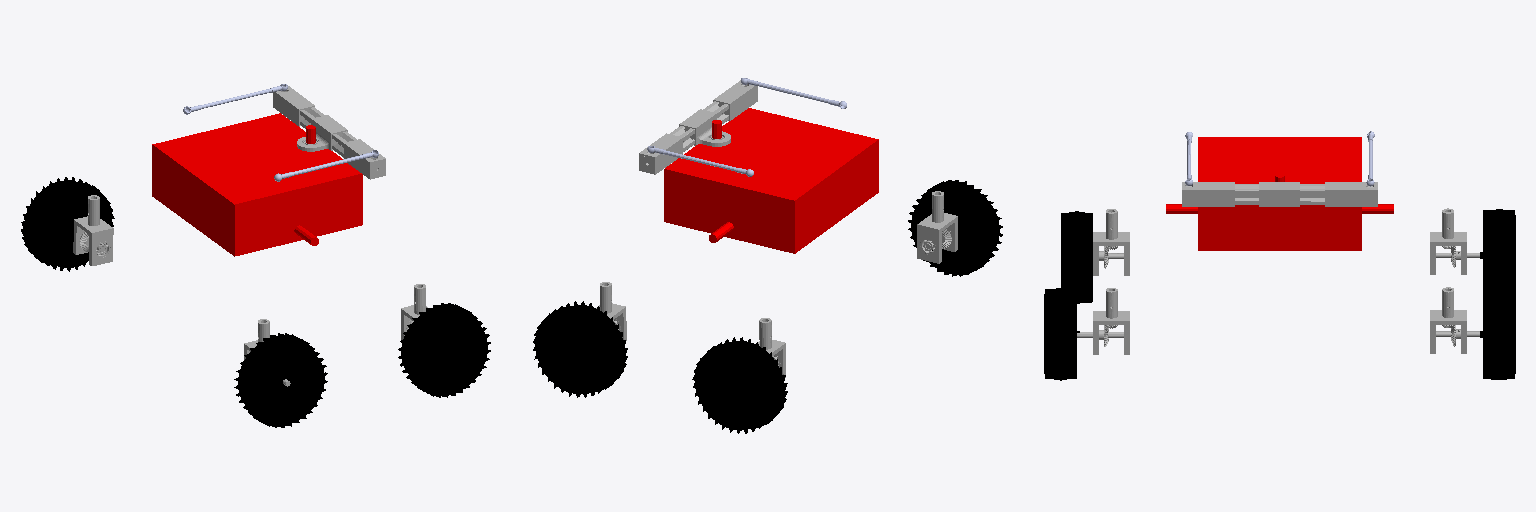
robot.urdf — rocker:
<?xml version="1.0" ?>
<!-- =================================================================================== -->
<!-- |    This document was autogenerated by xacro from rocker.urdf.xacro              | -->
<!-- |    EDITING THIS FILE BY HAND IS NOT RECOMMENDED                                 | -->
<!-- =================================================================================== -->
<!-- This URDF was automatically created by SolidWorks to URDF Exporter! Originally created by [author] ([email redacted]) 
     Commit Version: 1.6.0-4-g7f85cfe  Build Version: 1.6.7995.38578
     For more information, please see http://wiki.ros.org/sw_urdf_exporter -->
<robot name="rocker">
  <!-- Wheels friction tuning -->
  <gazebo reference="fl_wheel">
    <mu1>1.0</mu1>
    <mu2>1.0</mu2>
    <kp>1e6</kp>
    <kd>10.0</kd>
    <minDepth>0.001</minDepth>
    <maxVel>0.5</maxVel>
    <fdir1>1 0 0</fdir1>
  </gazebo>
  <gazebo reference="fr_wheel">
    <mu1>1.0</mu1>
    <mu2>1.0</mu2>
    <kp>1e6</kp>
    <kd>10.0</kd>
    <minDepth>0.001</minDepth>
    <maxVel>0.5</maxVel>
    <fdir1>1 0 0</fdir1>
  </gazebo>
  <gazebo reference="rl_wheel">
    <mu1>1.0</mu1>
    <mu2>1.0</mu2>
    <kp>1e6</kp>
    <kd>10.0</kd>
    <minDepth>0.001</minDepth>
    <maxVel>0.5</maxVel>
    <fdir1>1 0 0</fdir1>
  </gazebo>
  <gazebo reference="rr_wheel">
    <mu1>1.0</mu1>
    <mu2>1.0</mu2>
    <kp>1e6</kp>
    <kd>10.0</kd>
    <minDepth>0.001</minDepth>
    <maxVel>0.5</maxVel>
    <fdir1>1 0 0</fdir1>
  </gazebo>
  <!-- Steering friction -->
  <gazebo reference="steer_fl">
    <mu1>1.0</mu1>
    <mu2>1.0</mu2>
    <kp>100000.0</kp>
    <kd>10.0</kd>
  </gazebo>
  <gazebo reference="steer_fr">
    <mu1>1.0</mu1>
    <mu2>1.0</mu2>
    <kp>100000.0</kp>
    <kd>10.0</kd>
  </gazebo>
  <gazebo reference="steer_rl">
    <mu1>1.0</mu1>
    <mu2>1.0</mu2>
    <kp>100000.0</kp>
    <kd>10.0</kd>
  </gazebo>
  <gazebo reference="steer_rr">
    <mu1>1.0</mu1>
    <mu2>1.0</mu2>
    <kp>100000.0</kp>
    <kd>10.0</kd>
  </gazebo>
  <!-- Global plugins (for Ignition) -->
  <gazebo>
    <plugin filename="ign_ros2_control-system" name="ign_ros2_control::IgnitionROS2ControlPlugin">
      <parameters>[local-path]/rocker_ws/install/rocker_controller/share/rocker_controller/config/rocker_controllers.yaml</parameters>
    </plugin>
    <plugin filename="ignition-gazebo-imu-system" name="ignition::gazebo::systems::Imu"/>
    <plugin filename="ignition-gazebo-sensors-system" name="ignition::gazebo::systems::Sensors"/>
  </gazebo>
  <link name="base_link">
    <inertial>
      <origin rpy="0 0 0" xyz="0.0036425 -1.0237E-05 0.029007"/>
      <mass value="3.2505"/>
      <inertia ixx="0.012194" ixy="-1.2887E-11" ixz="-1.2673E-05" iyy="0.0094514" iyz="2.0372E-12" izz="0.019133"/>
    </inertial>
    <visual>
      <origin rpy="0 0 0" xyz="0 0 0"/>
      <geometry>
        <mesh filename="package://rocker_description/meshes/base_link.STL"/>
      </geometry>
      <material name="">
        <color rgba="1 0 0 1"/>
      </material>
    </visual>
    <collision>
      <origin rpy="0 0 0" xyz="0 0 0"/>
      <geometry>
        <mesh filename="package://rocker_description/meshes/base_link.STL"/>
      </geometry>
    </collision>
  </link>
  <link name="rocker_left">
    <inertial>
      <origin rpy="0 0 0" xyz="-0.00596279660858899 0.019311656764223 0.00821775119149987"/>
      <mass value="0.548279465838668"/>
      <inertia ixx="0.000160712183052689" ixy="-1.18295174930768E-05" ixz="4.65341223670499E-08" iyy="0.00145712336712729" iyz="2.38546500296045E-06" izz="0.00150112676272773"/>
    </inertial>
    <visual>
      <origin rpy="0 0 0" xyz="0 0 0"/>
      <geometry>
        <mesh filename="package://rocker_description/meshes/rocker_left.STL"/>
      </geometry>
      <material name="">
        <color rgba="0.752941176470588 0.752941176470588 0.752941176470588 1"/>
      </material>
    </visual>
    <collision>
      <origin rpy="0 0 0" xyz="0 0 0"/>
      <geometry>
        <mesh filename="package://rocker_description/meshes/rocker_left.STL"/>
      </geometry>
    </collision>
  </link>
  <joint name="rocker_left_joint" type="revolute">
    <origin rpy="-1.5707963267949 0 0" xyz="-0.00300007366280326 0.139989762643875 0.00599815142431871"/>
    <parent link="base_link"/>
    <child link="rocker_left"/>
    <axis xyz="0 0 -1"/>
    <limit effort="10" lower="-0.785" upper="0.785" velocity="20"/>
  </joint>
  <link name="steer_fl">
    <inertial>
      <origin rpy="0 0 0" xyz="0.000519302762488599 0.00116147480983056 -0.0722490116852784"/>
      <mass value="0.0538768863875911"/>
      <inertia ixx="1.72835692168003E-05" ixy="1.86520451951073E-10" ixz="1.22945601642171E-09" iyy="1.26504996734862E-05" iyz="1.03486603556425E-12" izz="1.01151748087639E-05"/>
    </inertial>
    <visual>
      <origin rpy="0 0 0" xyz="0 0 0"/>
      <geometry>
        <mesh filename="package://rocker_description/meshes/steer_fl.STL"/>
      </geometry>
      <material name="">
        <color rgba="0.752941176470588 0.752941176470588 0.752941176470588 1"/>
      </material>
    </visual>
    <collision>
      <origin rpy="0 0 0" xyz="0 0 0"/>
      <geometry>
        <mesh filename="package://rocker_description/meshes/steer_fl.STL"/>
      </geometry>
    </collision>
  </link>
  <joint name="steer_fl_joint" type="revolute">
    <origin rpy="1.5707963267949 0 0" xyz="0.109493624388031 0.03794110103799 0.0465656792826112"/>
    <parent link="rocker_left"/>
    <child link="steer_fl"/>
    <axis xyz="0 0 -1"/>
    <limit effort="10" lower="-3.14" upper="3.14" velocity="20"/>
  </joint>
  <link name="fl_wheel">
    <inertial>
      <origin rpy="0 0 0" xyz="0.002099 -0.0019395 -0.028409"/>
      <mass value="0.13017"/>
      <inertia ixx="0.00012478" ixy="-7.5675E-12" ixz="-1.0928E-11" iyy="0.00012478" iyz="-2.364E-12" izz="0.00023467"/>
    </inertial>
    <visual>
      <origin rpy="0 0 0" xyz="0 0 0"/>
      <geometry>
        <mesh filename="package://rocker_description/meshes/fl_wheel.STL"/>
      </geometry>
      <material name="">
        <color rgba="0 0 0 1"/>
      </material>
    </visual>
    <collision>
      <origin rpy="0 0 0" xyz="0 0 0"/>
      <geometry>
        <mesh filename="package://rocker_description/meshes/fl_wheel.STL"/>
      </geometry>
    </collision>
  </link>
  <joint name="fl_wheel_joint" type="continuous">
    <origin rpy="-1.5707963267949 0 0" xyz="-0.0015781170593388 0.0908967088232542 -0.0809547532967621"/>
    <parent link="steer_fl"/>
    <child link="fl_wheel"/>
    <axis xyz="0 0 -1"/>
    <limit effort="10" lower="-10" upper="10" velocity="100"/>
  </joint>
  <link name="steer_rl">
    <inertial>
      <origin rpy="0 0 0" xyz="0.000484941628677482 0.00116147483099063 -0.0761644404434853"/>
      <mass value="0.053876886763219"/>
      <inertia ixx="1.72835692136404E-05" ixy="1.8652062791263E-10" ixz="1.22944997559593E-09" iyy="1.26504996782381E-05" iyz="1.04212079064367E-12" izz="1.01151748208476E-05"/>
    </inertial>
    <visual>
      <origin rpy="0 0 0" xyz="0 0 0"/>
      <geometry>
        <mesh filename="package://rocker_description/meshes/steer_rl.STL"/>
      </geometry>
      <material name="">
        <color rgba="0.752941176470588 0.752941176470588 0.752941176470588 1"/>
      </material>
    </visual>
    <collision>
      <origin rpy="0 0 0" xyz="0 0 0"/>
      <geometry>
        <mesh filename="package://rocker_description/meshes/steer_rl.STL"/>
      </geometry>
    </collision>
  </link>
  <joint name="steer_rl_joint" type="revolute">
    <origin rpy="1.5707963267949 0 0" xyz="-0.110472012747799 0.0340528521482858 0.0465656792826093"/>
    <parent link="rocker_left"/>
    <child link="steer_rl"/>
    <axis xyz="0 0 -1"/>
    <limit effort="10" lower="-3.14" upper="3.14" velocity="20"/>
  </joint>
  <link name="rl_wheel">
    <inertial>
      <origin rpy="0 0 0" xyz="0.0020646 0.001976 -0.028409"/>
      <mass value="0.13017"/>
      <inertia ixx="0.00012478" ixy="3.8397E-11" ixz="1.7184E-12" iyy="0.00012478" iyz="1.1048E-11" izz="0.00023467"/>
    </inertial>
    <visual>
      <origin rpy="0 0 0" xyz="0 0 0"/>
      <geometry>
        <mesh filename="package://rocker_description/meshes/rl_wheel.STL"/>
      </geometry>
      <material name="">
        <color rgba="0 0 0 1"/>
      </material>
    </visual>
    <collision>
      <origin rpy="0 0 0" xyz="0 0 0"/>
      <geometry>
        <mesh filename="package://rocker_description/meshes/rl_wheel.STL"/>
      </geometry>
    </collision>
  </link>
  <joint name="rl_wheel_joint" type="continuous">
    <origin rpy="-1.5707963267949 0 0" xyz="-0.00157811705934295 0.0908967088232554 -0.0809547532967675"/>
    <parent link="steer_rl"/>
    <child link="rl_wheel"/>
    <axis xyz="0 0 -1"/>
    <limit effort="10" lower="-10" upper="10" velocity="100"/>
  </joint>
  <link name="rocker_right">
    <inertial>
      <origin rpy="0 0 0" xyz="-0.00596288564139164 -0.0193116567738485 0.00817977279760604"/>
      <mass value="0.54827946587469"/>
      <inertia ixx="0.000160712214952262" ixy="1.17004377021412E-05" ixz="-4.595305488417E-08" iyy="0.00145712333524181" iyz="-2.31782014461646E-06" izz="0.00150112676273801"/>
    </inertial>
    <visual>
      <origin rpy="0 0 0" xyz="0 0 0"/>
      <geometry>
        <mesh filename="package://rocker_description/meshes/rocker_right.STL"/>
      </geometry>
      <material name="">
        <color rgba="0.752941176470588 0.752941176470588 0.752941176470588 1"/>
      </material>
    </visual>
    <collision>
      <origin rpy="0 0 0" xyz="0 0 0"/>
      <geometry>
        <mesh filename="package://rocker_description/meshes/rocker_right.STL"/>
      </geometry>
    </collision>
  </link>
  <joint name="rocker_right_joint" type="revolute">
    <origin rpy="1.5707963267949 0 0" xyz="-0.00300007366280228 -0.140010237356125 0.00599815142431871"/>
    <parent link="base_link"/>
    <child link="rocker_right"/>
    <axis xyz="0 0 -1"/>
    <limit effort="10" lower="-0.785" upper="0.785" velocity="20"/>
  </joint>
  <link name="steer_fr">
    <inertial>
      <origin rpy="0 0 0" xyz="0.000814806507593191 -0.00116147489072244 -0.0722542107353949"/>
      <mass value="0.0538768872737433"/>
      <inertia ixx="1.7283569426659E-05" ixy="1.86515428145444E-10" ixz="5.41775108617785E-10" iyy="1.26504997390041E-05" iyz="-9.97068339061866E-13" izz="1.01151746673558E-05"/>
    </inertial>
    <visual>
      <origin rpy="0 0 0" xyz="0 0 0"/>
      <geometry>
        <mesh filename="package://rocker_description/meshes/steer_fr.STL"/>
      </geometry>
      <material name="">
        <color rgba="0.752941176470588 0.752941176470588 0.752941176470588 1"/>
      </material>
    </visual>
    <collision>
      <origin rpy="0 0 0" xyz="0 0 0"/>
      <geometry>
        <mesh filename="package://rocker_description/meshes/steer_fr.STL"/>
      </geometry>
    </collision>
  </link>
  <joint name="steer_fr_joint" type="revolute">
    <origin rpy="-1.5707963267949 0 0" xyz="0.109199494929351 -0.0379359018234412 0.0464809030708809"/>
    <parent link="rocker_right"/>
    <child link="steer_fr"/>
    <axis xyz="0 0 -1"/>
    <limit effort="10" lower="-3.14" upper="3.14" velocity="20"/>
  </joint>
  <link name="fr_wheel">
    <inertial>
      <origin rpy="0 0 0" xyz="0.002099 -0.0019395 0.028409"/>
      <mass value="0.13017"/>
      <inertia ixx="0.00012478" ixy="-4.1966E-11" ixz="2.4004E-12" iyy="0.00012478" iyz="-1.092E-11" izz="0.00023467"/>
    </inertial>
    <visual>
      <origin rpy="0 0 0" xyz="0 0 0"/>
      <geometry>
        <mesh filename="package://rocker_description/meshes/fr_wheel.STL"/>
      </geometry>
      <material name="">
        <color rgba="0 0 0 1"/>
      </material>
    </visual>
    <collision>
      <origin rpy="0 0 0" xyz="0 0 0"/>
      <geometry>
        <mesh filename="package://rocker_description/meshes/fr_wheel.STL"/>
      </geometry>
    </collision>
  </link>
  <joint name="fr_wheel_joint" type="continuous">
    <origin rpy="-1.5707963267949 0 0" xyz="-0.00128398760065623 -0.0908967088232549 -0.0809599525113137"/>
    <parent link="steer_fr"/>
    <child link="fr_wheel"/>
    <axis xyz="0 0 -1"/>
    <limit effort="10" lower="-10" upper="10" velocity="100"/>
  </joint>
  <link name="steer_rr">
    <inertial>
      <origin rpy="0 0 0" xyz="0.000780445270329057 -0.00116147487171195 -0.0761696395712882"/>
      <mass value="0.0538768871625175"/>
      <inertia ixx="1.72835694318758E-05" ixy="1.86519124149826E-10" ixz="5.41758961396237E-10" iyy="1.26504997202066E-05" iyz="-9.97542075043563E-13" izz="1.01151746450203E-05"/>
    </inertial>
    <visual>
      <origin rpy="0 0 0" xyz="0 0 0"/>
      <geometry>
        <mesh filename="package://rocker_description/meshes/steer_rr.STL"/>
      </geometry>
      <material name="">
        <color rgba="0.752941176470588 0.752941176470588 0.752941176470588 1"/>
      </material>
    </visual>
    <collision>
      <origin rpy="0 0 0" xyz="0 0 0"/>
      <geometry>
        <mesh filename="package://rocker_description/meshes/steer_rr.STL"/>
      </geometry>
    </collision>
  </link>
  <joint name="steer_rr_joint" type="revolute">
    <origin rpy="-1.5707963267949 0 0" xyz="-0.11076614220648 -0.0340476529337355 0.0464809030708823"/>
    <parent link="rocker_right"/>
    <child link="steer_rr"/>
    <axis xyz="0 0 -1"/>
    <limit effort="10" lower="-3.14" upper="3.14" velocity="20"/>
  </joint>
  <link name="rr_wheel">
    <inertial>
      <origin rpy="0 0 0" xyz="-1.3569E-08 -1.2666E-08 0.0084087"/>
      <mass value="0.13017"/>
      <inertia ixx="0.00012478" ixy="3.6109E-11" ixz="-1.1101E-11" iyy="0.00012478" iyz="-1.3289E-12" izz="0.00023467"/>
    </inertial>
    <visual>
      <origin rpy="0 0 0" xyz="0 0 0"/>
      <geometry>
        <mesh filename="package://rocker_description/meshes/rr_wheel.STL"/>
      </geometry>
      <material name="">
        <color rgba="0 0 0 1"/>
      </material>
    </visual>
    <collision>
      <origin rpy="0 0 0" xyz="0 0 0"/>
      <geometry>
        <mesh filename="package://rocker_description/meshes/rr_wheel.STL"/>
      </geometry>
    </collision>
  </link>
  <joint name="rr_wheel_joint" type="continuous">
    <origin rpy="-1.5707963267949 0 0" xyz="0.000780594104818705 -0.0708967088232536 -0.0829359361237778"/>
    <parent link="steer_rr"/>
    <child link="rr_wheel"/>
    <axis xyz="0 0 -1"/>
    <limit effort="10" lower="-10" upper="10" velocity="100"/>
  </joint>
  <link name="diff_link">
    <inertial>
      <origin rpy="0 0 0" xyz="0.0236047033494913 3.3860603747965E-07 0.00680399175128785"/>
      <mass value="0.218473302594945"/>
      <inertia ixx="0.000709218973632844" ixy="-4.54890286672036E-11" ixz="-5.80923681517665E-07" iyy="2.67923062738046E-05" iyz="-9.28200200488253E-10" izz="0.000717476916902687"/>
    </inertial>
    <visual>
      <origin rpy="0 0 0" xyz="0 0 0"/>
      <geometry>
        <mesh filename="package://rocker_description/meshes/diff_link.STL"/>
      </geometry>
      <material name="">
        <color rgba="0.752941176470588 0.752941176470588 0.752941176470588 1"/>
      </material>
    </visual>
    <collision>
      <origin rpy="0 0 0" xyz="0 0 0"/>
      <geometry>
        <mesh filename="package://rocker_description/meshes/diff_link.STL"/>
      </geometry>
    </collision>
  </link>
  <joint name="diff_link_joint" type="revolute">
    <origin rpy="0 0 0" xyz="0.0719999263371985 -1.02373561229607E-05 0.0659981514243161"/>
    <parent link="base_link"/>
    <child link="diff_link"/>
    <axis xyz="0 0 -1"/>
    <limit effort="10" lower="-0.785" upper="0.785" velocity="20"/>
  </joint>
  <!-- ===== TRANSMISSIONS FOR ACTUATED JOINTS ===== -->
  <!-- Wheel velocity transmissions -->
  <transmission name="fl_wheel_trans">
    <type>transmission_interface/SimpleTransmission</type>
    <joint name="fl_wheel_joint">
      <hardwareInterface>hardware_interface/VelocityJointInterface</hardwareInterface>
    </joint>
    <actuator name="fl_wheel_motor">
      <hardwareInterface>hardware_interface/VelocityJointInterface</hardwareInterface>
      <mechanicalReduction>1</mechanicalReduction>
    </actuator>
  </transmission>
  <transmission name="rl_wheel_trans">
    <type>transmission_interface/SimpleTransmission</type>
    <joint name="rl_wheel_joint">
      <hardwareInterface>hardware_interface/VelocityJointInterface</hardwareInterface>
    </joint>
    <actuator name="rl_wheel_motor">
      <hardwareInterface>hardware_interface/VelocityJointInterface</hardwareInterface>
      <mechanicalReduction>1</mechanicalReduction>
    </actuator>
  </transmission>
  <transmission name="fr_wheel_trans">
    <type>transmission_interface/SimpleTransmission</type>
    <joint name="fr_wheel_joint">
      <hardwareInterface>hardware_interface/VelocityJointInterface</hardwareInterface>
    </joint>
    <actuator name="fr_wheel_motor">
      <hardwareInterface>hardware_interface/VelocityJointInterface</hardwareInterface>
      <mechanicalReduction>1</mechanicalReduction>
    </actuator>
  </transmission>
  <transmission name="rr_wheel_trans">
    <type>transmission_interface/SimpleTransmission</type>
    <joint name="rr_wheel_joint">
      <hardwareInterface>hardware_interface/VelocityJointInterface</hardwareInterface>
    </joint>
    <actuator name="rr_wheel_motor">
      <hardwareInterface>hardware_interface/VelocityJointInterface</hardwareInterface>
      <mechanicalReduction>1</mechanicalReduction>
    </actuator>
  </transmission>
  <!-- Steering position transmissions -->
  <transmission name="steer_fl_trans">
    <type>transmission_interface/SimpleTransmission</type>
    <joint name="steer_fl_joint">
      <hardwareInterface>hardware_interface/PositionJointInterface</hardwareInterface>
    </joint>
    <actuator name="steer_fl_motor">
      <hardwareInterface>hardware_interface/PositionJointInterface</hardwareInterface>
      <mechanicalReduction>1</mechanicalReduction>
    </actuator>
  </transmission>
  <transmission name="steer_rl_trans">
    <type>transmission_interface/SimpleTransmission</type>
    <joint name="steer_rl_joint">
      <hardwareInterface>hardware_interface/PositionJointInterface</hardwareInterface>
    </joint>
    <actuator name="steer_rl_motor">
      <hardwareInterface>hardware_interface/PositionJointInterface</hardwareInterface>
      <mechanicalReduction>1</mechanicalReduction>
    </actuator>
  </transmission>
  <transmission name="steer_fr_trans">
    <type>transmission_interface/SimpleTransmission</type>
    <joint name="steer_fr_joint">
      <hardwareInterface>hardware_interface/PositionJointInterface</hardwareInterface>
    </joint>
    <actuator name="steer_fr_motor">
      <hardwareInterface>hardware_interface/PositionJointInterface</hardwareInterface>
      <mechanicalReduction>1</mechanicalReduction>
    </actuator>
  </transmission>
  <transmission name="steer_rr_trans">
    <type>transmission_interface/SimpleTransmission</type>
    <joint name="steer_rr_joint">
      <hardwareInterface>hardware_interface/PositionJointInterface</hardwareInterface>
    </joint>
    <actuator name="steer_rr_motor">
      <hardwareInterface>hardware_interface/PositionJointInterface</hardwareInterface>
      <mechanicalReduction>1</mechanicalReduction>
    </actuator>
  </transmission>
  <link name="turnbuckle_left">
    <inertial>
      <origin rpy="0 0 0" xyz="5.34219644405254E-05 -0.000100047522705149 3.94380414436846E-09"/>
      <mass value="0.00309472740252932"/>
      <inertia ixx="3.21656774622978E-06" ixy="-4.10495316029439E-10" ixz="3.51196526219277E-11" iyy="3.21711732254786E-06" iyz="-8.25530439188717E-11" izz="1.42977819273037E-08"/>
    </inertial>
    <visual>
      <origin rpy="0 0 0" xyz="0 0 0"/>
      <geometry>
        <mesh filename="package://rocker_description/meshes/turnbuckle_left.STL"/>
      </geometry>
      <material name="">
        <color rgba="0.792156862745098 0.819607843137255 0.933333333333333 1"/>
      </material>
    </visual>
    <collision>
      <origin rpy="0 0 0" xyz="0 0 0"/>
      <geometry>
        <mesh filename="package://rocker_description/meshes/turnbuckle_left.STL"/>
      </geometry>
    </collision>
  </link>
  <joint name="turnbuckle_left_joint" type="revolute">
    <origin rpy="1.5708 0 1.5708" xyz="-0.04188 0.111 0.022998"/>
    <parent link="diff_link"/>
    <child link="turnbuckle_left"/>
    <axis xyz="0 0 -1"/>
    <limit effort="10" lower="-0.1" upper="0.1" velocity="20"/>
  </joint>
  <link name="turnbuckle_right">
    <inertial>
      <origin rpy="0 0 0" xyz="-2.95876236215131E-05 -2.45605062221266E-05 1.0037929376594E-09"/>
      <mass value="0.00309472738645889"/>
      <inertia ixx="3.21674519059412E-06" ixy="-5.19742068643782E-10" ixz="-6.77215920633861E-11" iyy="3.21693988199051E-06" iyz="-1.96901591552011E-11" izz="1.42977779775118E-08"/>
    </inertial>
    <visual>
      <origin rpy="0 0 0" xyz="0 0 0"/>
      <geometry>
        <mesh filename="package://rocker_description/meshes/turnbuckle_right.STL"/>
      </geometry>
      <material name="">
        <color rgba="0.792156862745098 0.819607843137255 0.933333333333333 1"/>
      </material>
    </visual>
    <collision>
      <origin rpy="0 0 0" xyz="0 0 0"/>
      <geometry>
        <mesh filename="package://rocker_description/meshes/turnbuckle_right.STL"/>
      </geometry>
    </collision>
  </link>
  <joint name="turnbuckle_right_joint" type="revolute">
    <origin rpy="1.5708 0 1.5708" xyz="-0.04188 -0.111 0.022998"/>
    <parent link="diff_link"/>
    <child link="turnbuckle_right"/>
    <axis xyz="0 0 -1"/>
    <limit effort="10" lower="-0.1" upper="0.1" velocity="20"/>
  </joint>
</robot>

--- What the picture shows (computed from the rendered views, not written in the file) ---
Views: 3 orthographic renders of the robot side by side, from view 1: azimuth 30°, elevation 25°; view 2: azimuth 150°, elevation 25°; view 3: azimuth 270°, elevation 25°.
Model rocker with 14 links and 13 joints (9 revolute, 4 continuous), rooted at base_link, posed all joints at 0.
Links seen in each view (by area): view 1: base_link, fr_wheel, rr_wheel, rl_wheel, diff_link, steer_rl, steer_fr; view 2: base_link, fl_wheel, rl_wheel, rr_wheel, diff_link, steer_rr, steer_rl, steer_fl; view 3: base_link, diff_link, fl_wheel, fr_wheel, rr_wheel, rl_wheel, steer_fl, steer_fr, steer_rl, steer_rr.
Boxes of the visible links, box(x1,y1,x2,y2) form: base_link: box(152, 113, 362, 256); fr_wheel: box(398, 303, 490, 397); rr_wheel: box(234, 333, 327, 427); rl_wheel: box(21, 177, 114, 271); diff_link: box(273, 86, 385, 179); steer_rl: box(73, 195, 113, 265); steer_fr: box(401, 284, 427, 339); base_link: box(664, 108, 878, 253); fl_wheel: box(533, 301, 627, 397); rl_wheel: box(692, 337, 787, 433); rr_wheel: box(908, 180, 1002, 276); diff_link: box(639, 80, 757, 174); steer_rr: box(917, 191, 957, 263); steer_rl: box(758, 318, 785, 377); steer_fl: box(596, 282, 626, 340); base_link: box(1166, 137, 1393, 250); diff_link: box(1182, 182, 1377, 206); fl_wheel: box(1480, 288, 1515, 379); fr_wheel: box(1044, 288, 1079, 380); rr_wheel: box(1061, 211, 1092, 303); rl_wheel: box(1480, 209, 1515, 293); steer_fl: box(1430, 287, 1479, 353); steer_fr: box(1077, 288, 1129, 354); steer_rl: box(1430, 208, 1479, 274); steer_rr: box(1093, 209, 1129, 275).
Size in the robot's own frame: 0.3337 by 0.5768 by 0.264 metres.
12 mesh visuals loaded from 14 distinct referenced files (12 binary STL); not drawn: 2 (reference not matched to a file when rendering).